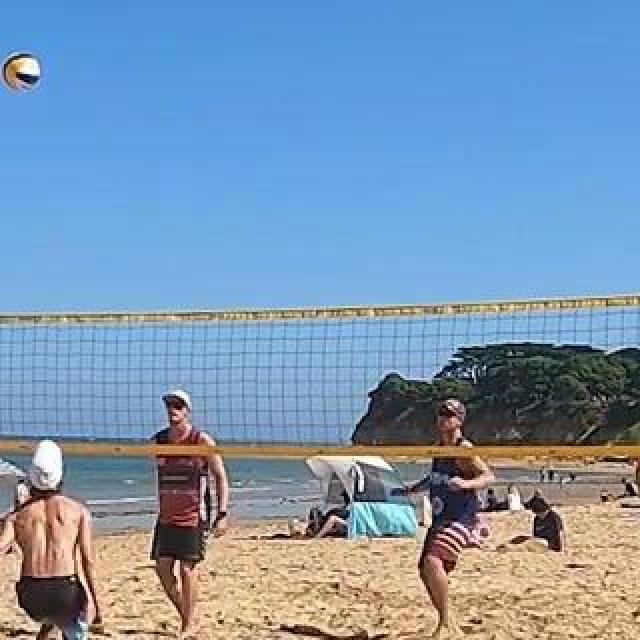volleyball: (3, 54, 41, 90)
